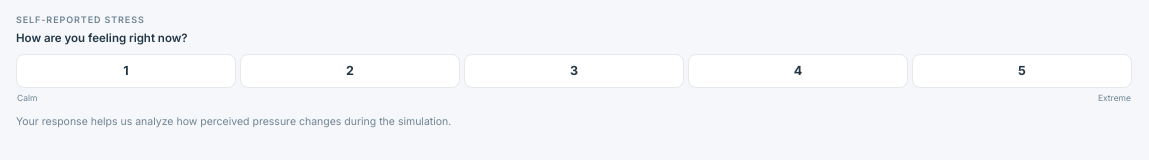
StressWidget › shows the recorded confirmation with a timestamp after a successful submission
The width and height of the screenshot is (1149, 160).
Click the radio button named "4 - Highly pressured" at [798, 71], box [688,54,908,88]
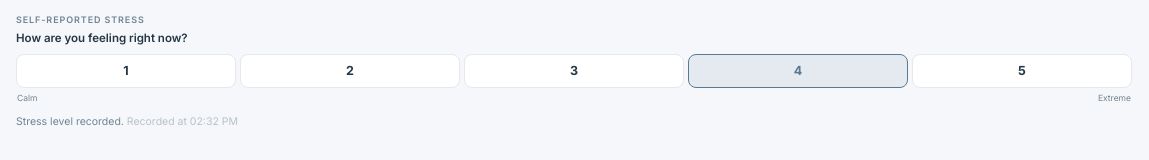
Result: the text "Stress level recorded. Recorded at 02:32 PM" is shown at [16,115,238,128]
Result: the text "Recorded at 02:32 PM" is shown at [127,115,238,128]
